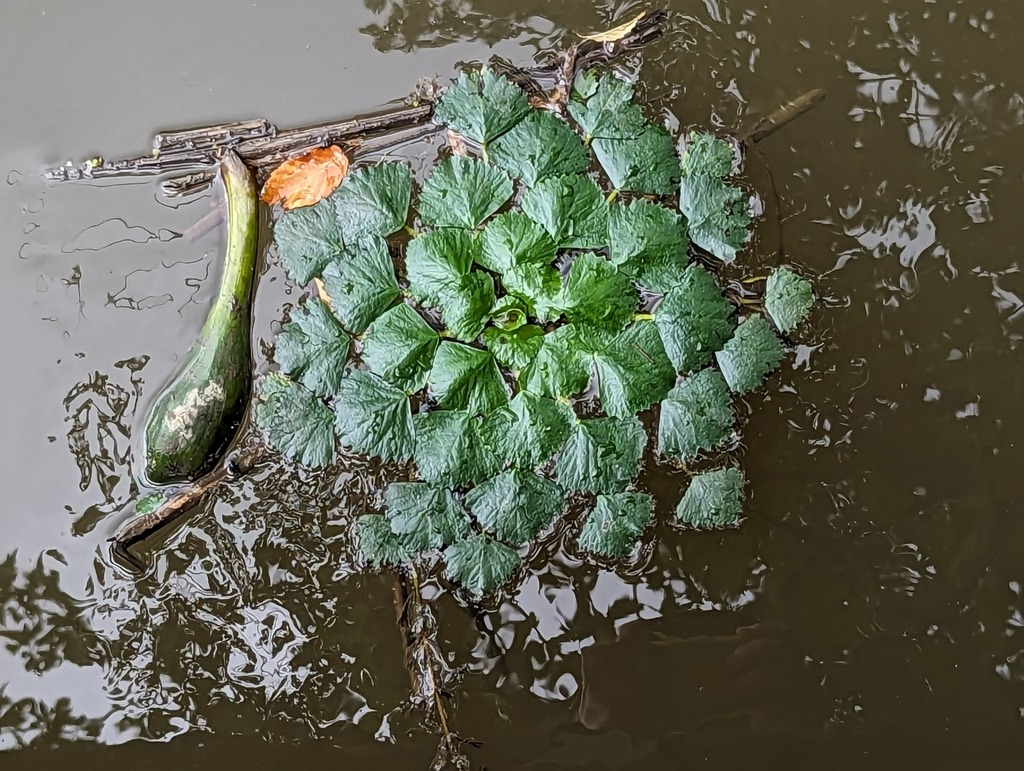water chestnut: (252, 57, 816, 595)
